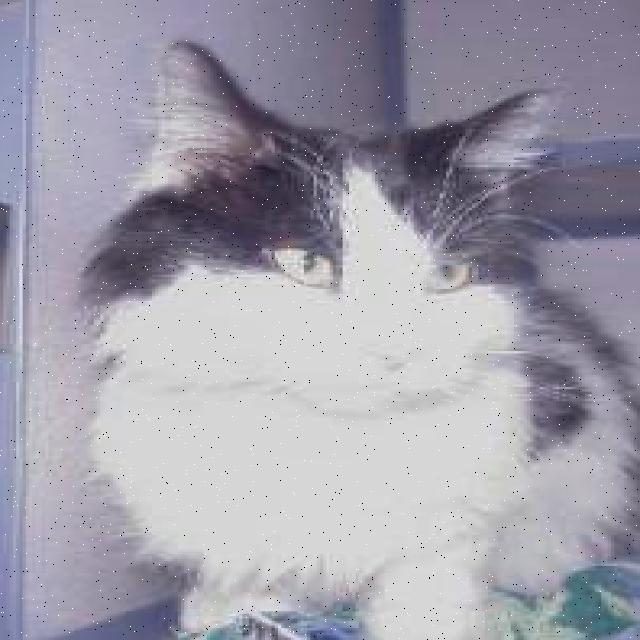Cat: (42, 39, 588, 450)
